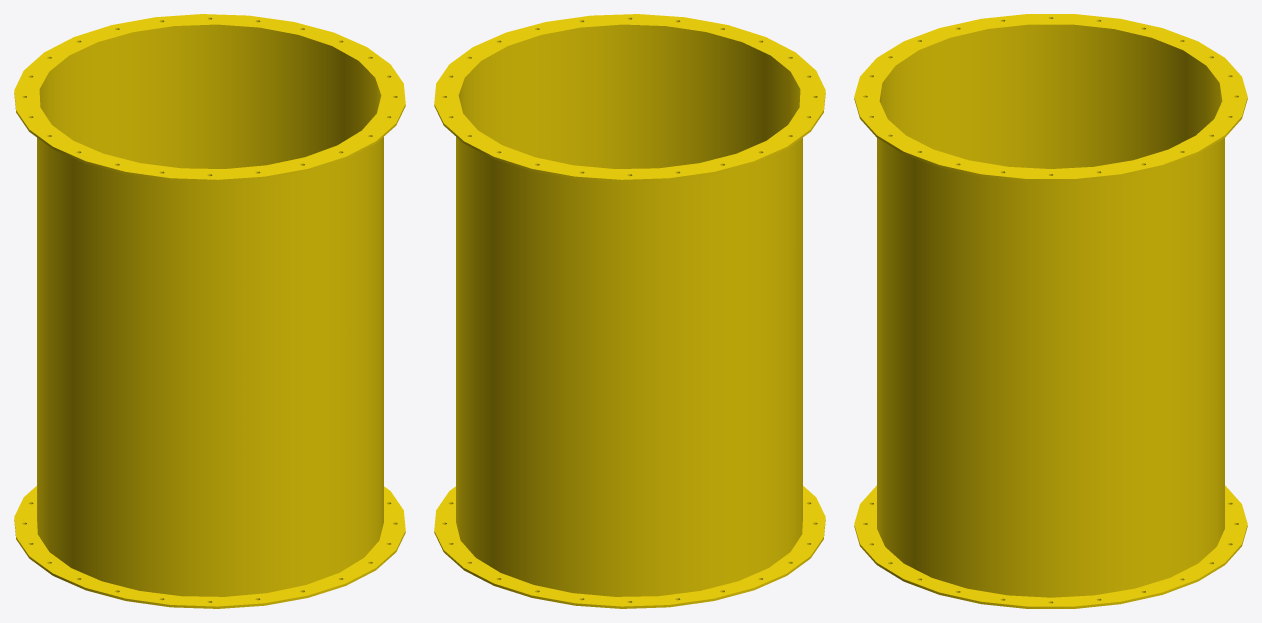
Rendered from Straight-106.fbx.
The picture shows the model from 3 angles, left to right: view 1: azimuth 30°, elevation 25°; view 2: azimuth 150°, elevation 25°; view 3: azimuth 270°, elevation 25°; orthographic projection.
Parts seen in each view (by area): view 1: lige-106-obj; view 2: lige-106-obj; view 3: lige-106-obj.
Boxes of the visible parts, x1,y1,x2,y2 form: lige-106-obj: (14, 14, 405, 608); lige-106-obj: (434, 14, 825, 608); lige-106-obj: (854, 14, 1247, 608).
Size of the model in its own units: 87.36 by 106 by 88.
